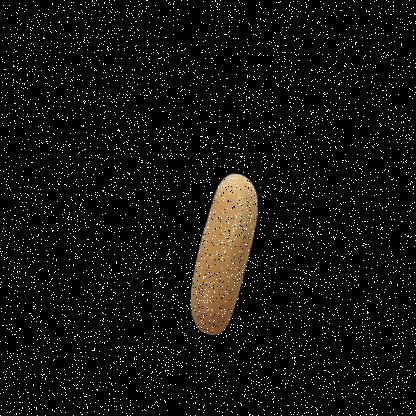t-muse: (178, 150, 274, 348)
